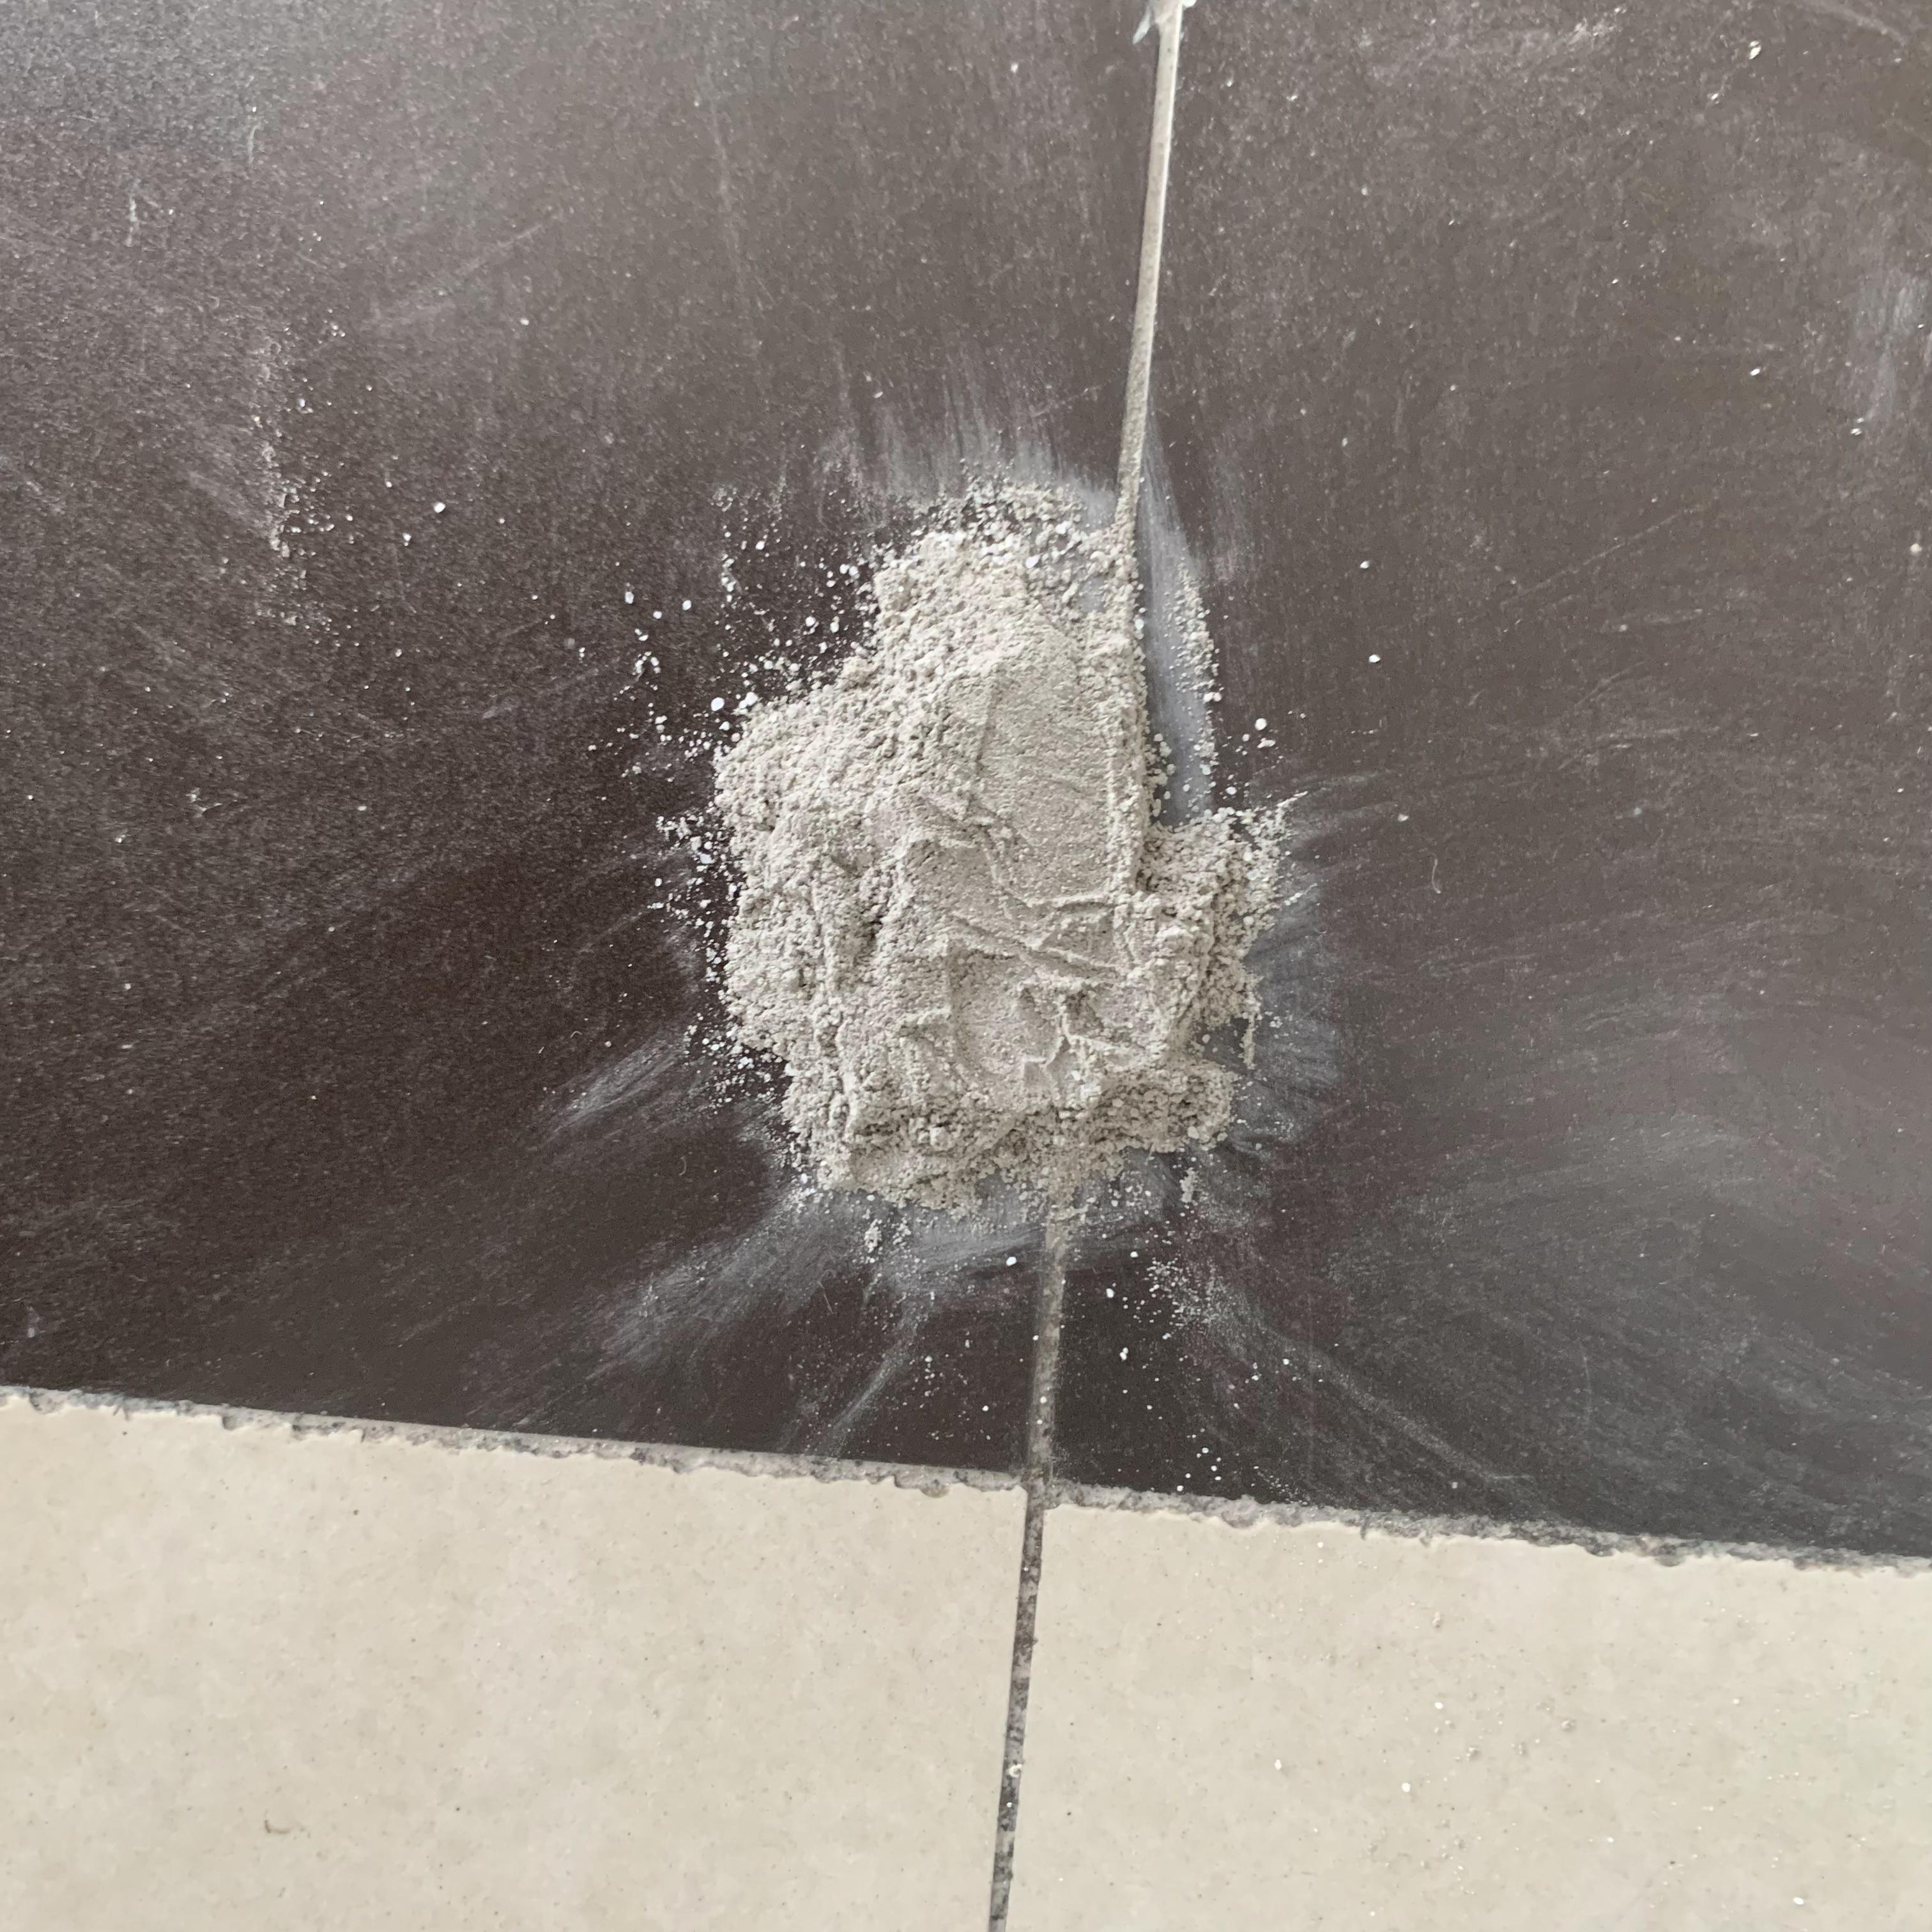ash pile: (564, 364, 1369, 1415)
